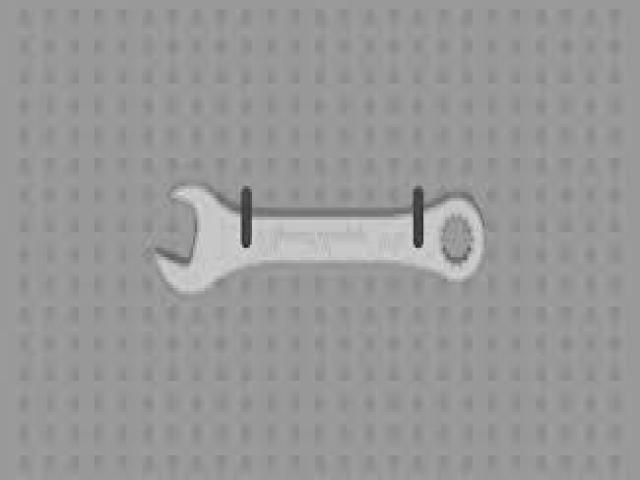Wrench: (158, 186, 484, 293)
